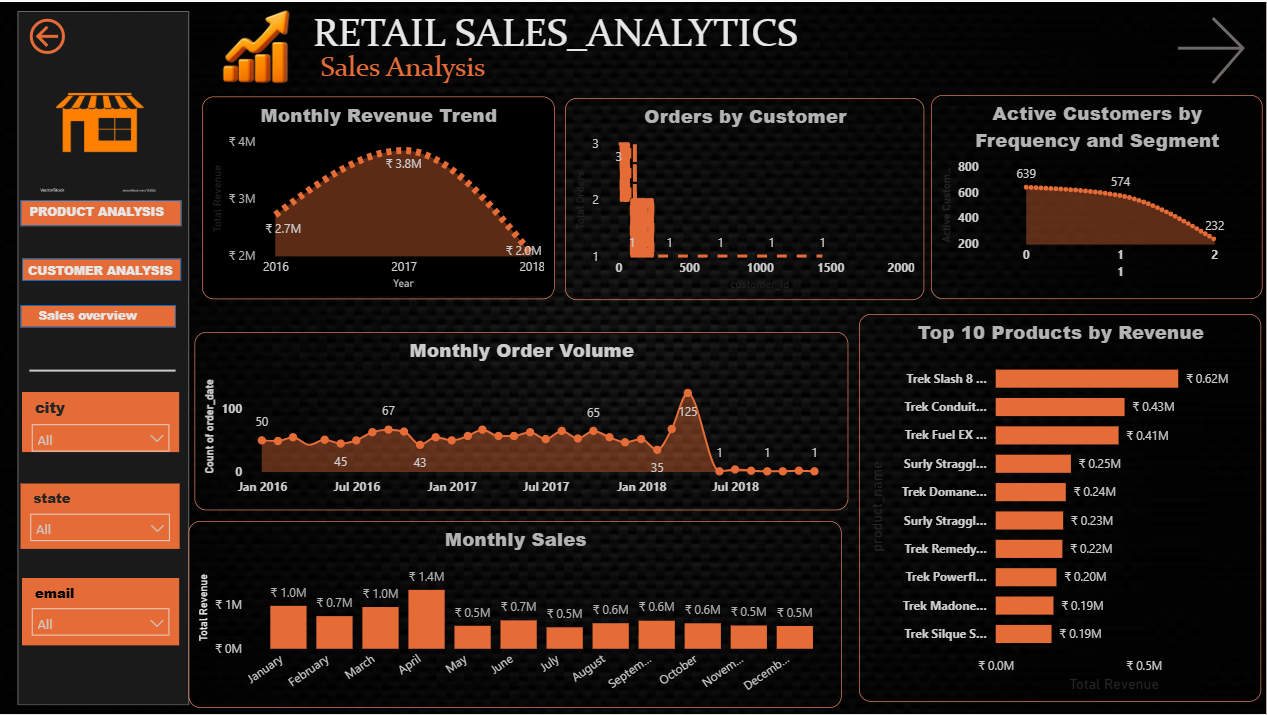

Layout of this report page (visuals, bound fields, positions):
{"tool":"powerbi","page":{"name":"Sales Analysis","canvas":[1280,720],"ordinal":1},"visuals":[{"type":"shape","box":[19.3,9.6,173.3,701],"z":0},{"type":"shape","box":[206.2,92.4,356.3,204.5],"z":1000},{"type":"shape","box":[580.2,94.5,360.9,204.1],"z":2000},{"type":"shape","box":[955.1,95.7,324.9,204.5],"z":3000},{"type":"shape","box":[197.9,306.8,659.8,186.4],"z":4000},{"type":"shape","box":[190.9,514,574.5,189],"z":5000},{"type":"shape","box":[873.1,321.3,406.3,398.7],"z":6000},{"type":"shape","box":[32.1,359.1,147.4,26.5],"z":7000},{"type":"areaChart","title":"Monthly Revenue Trend","fields":{"Y":["Order Items.Total Revenue"],"Category":["retail_sales orders.order date.Variation.Date Hierarchy.Year"]},"box":[205.9,95.4,355.8,204.4],"z":8000},{"type":"areaChart","title":"Orders by Customer","fields":{"Y":["Order Items.Total Orders"],"Category":["retail_sales orders.customer_id"]},"box":[572.6,96.4,362.8,204.1],"z":9000},{"type":"areaChart","title":"Active Customers by Frequency and Segment","fields":{"Y":["retail_sales orders.Active Customers"],"Category":["retail_sales customer_segments.frequency","retail_sales customer_segments.segment"]},"box":[941.1,94.5,334.5,206],"z":10000},{"type":"lineChart","title":"Monthly Order Volume","fields":{"Y":["CountNonNull(retail_sales orders.order_date)"],"Category":["retail_sales orders.Month Year.Variation.Date Hierarchy.Year","retail_sales orders.Month Year.Variation.Date Hierarchy.Month"]},"box":[197.9,333.2,659.8,179.8],"z":11000},{"type":"clusteredBarChart","title":"Top 10 Products by Revenue","fields":{"Category":["retail_sales products.product_name"],"Y":["Order Items.Total Revenue"]},"box":[869.3,315.6,406.3,391.2],"z":12000},{"type":"clusteredColumnChart","title":"Monthly Sales","fields":{"Category":["retail_sales orders.Month Year.Variation.Date Hierarchy.Year","retail_sales orders.Month Year.Variation.Date Hierarchy.Month"],"Y":["Order Items.Total Revenue"]},"box":[192.8,523.5,659.5,189],"z":13000},{"type":"image","box":[39.7,52.9,126.6,147.4],"z":14000},{"type":"actionButton","box":[21.2,5.8,57.8,57.8],"z":15000},{"type":"shape","title":"RETAIL SALES_ANALYTICS","box":[317.8,5.8,568.1,57.8],"z":16000},{"type":"shape","title":"Sales Analysis","box":[325,49.1,226.8,39.7],"z":17000},{"type":"shape","box":[22.7,200.3,162.5,26.5],"z":18000},{"type":"actionButton","title":"PRODUCT ANALYSIS","box":[31.2,203.6,161.6,23.1],"z":19000},{"type":"shape","box":[24.6,258.9,160.6,22.7],"z":20000},{"type":"actionButton","title":"CUSTOMER ANALYSIS","box":[29.8,261.7,176.6,25.5],"z":21000},{"type":"shape","box":[22.7,306.1,156.9,22.7],"z":22000},{"type":"actionButton","title":"Sales overview","box":[41.6,308,113.4,13.2],"z":23000},{"type":"slicer","fields":{"Values":["retail_sales stores.city"]},"box":[24.6,393.1,158.7,60.5],"z":24000},{"type":"slicer","fields":{"Values":["retail_sales stores.state"]},"box":[22.7,485.7,160.6,66.1],"z":25000},{"type":"slicer","fields":{"Values":["retail_sales stores.email"]},"box":[24.6,582.1,158.7,68],"z":26000},{"type":"image","box":[117.5,0,288.9,96.3],"z":27000},{"type":"actionButton","box":[1182.4,7.7,94.4,82.8],"z":28000}]}

Visuals, with their boxes in screenshot pixels (x1, y1, x2, y2), scaled from the page's 1280x720 canvas onto the 1267x715 screenshot:
shape: 19 10 191 706
shape: 204 92 557 295
shape: 574 94 932 297
shape: 945 95 1266 298
shape: 196 305 849 490
shape: 189 510 758 698
shape: 864 319 1266 714
shape: 32 357 178 383
"Monthly Revenue Trend" areaChart: 204 95 556 298
"Orders by Customer" areaChart: 567 96 926 298
"Active Customers by Frequency and Segment" areaChart: 932 94 1263 298
"Monthly Order Volume" lineChart: 196 331 849 509
"Top 10 Products by Revenue" clusteredBarChart: 860 313 1263 702
"Monthly Sales" clusteredColumnChart: 191 520 844 708
image: 39 53 165 199
actionButton: 21 6 78 63
"RETAIL SALES_ANALYTICS" shape: 315 6 877 63
"Sales Analysis" shape: 322 49 546 88
shape: 22 199 183 225
"PRODUCT ANALYSIS" actionButton: 31 202 191 225
shape: 24 257 183 280
"CUSTOMER ANALYSIS" actionButton: 29 260 204 285
shape: 22 304 178 327
"Sales overview" actionButton: 41 306 153 319
slicer - retail_sales stores.city: 24 390 181 450
slicer - retail_sales stores.state: 22 482 181 548
slicer - retail_sales stores.email: 24 578 181 646
image: 116 0 402 96
actionButton: 1170 8 1264 90
